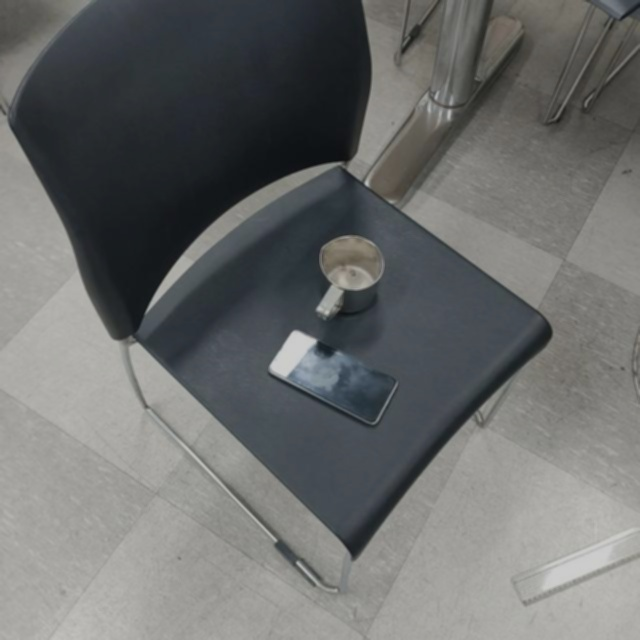cup: (314, 233, 385, 321)
phone: (269, 329, 399, 427)
